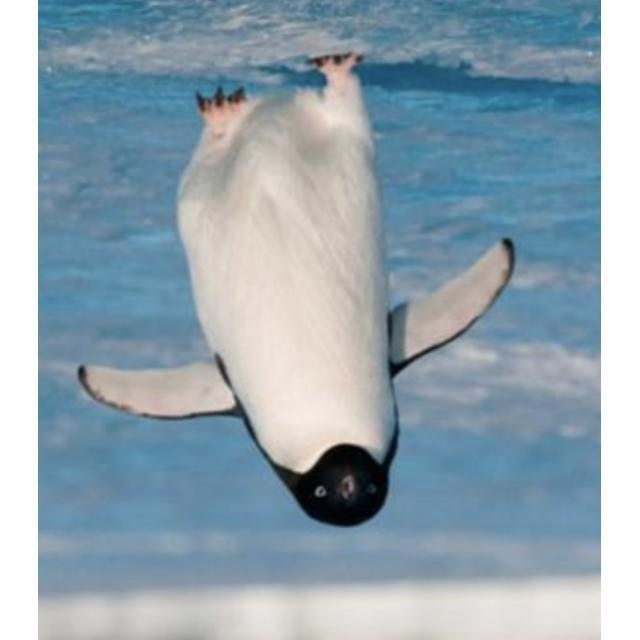penguin: (77, 50, 516, 527)
